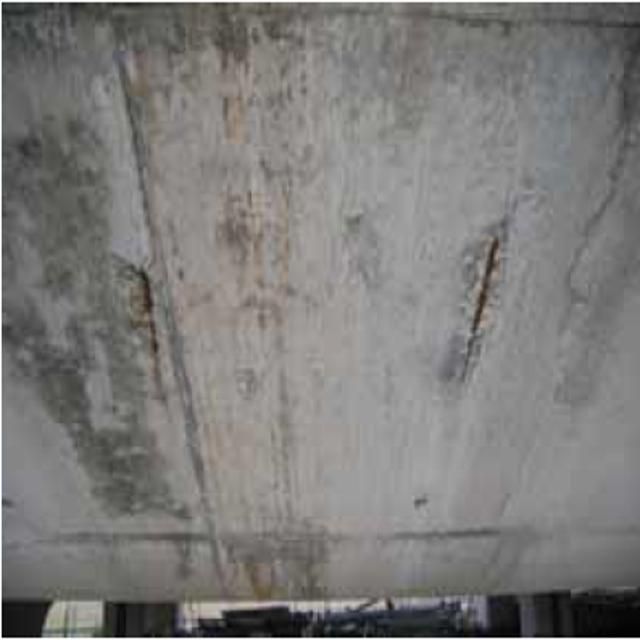spalling: (427, 217, 526, 372), (90, 236, 174, 374)
